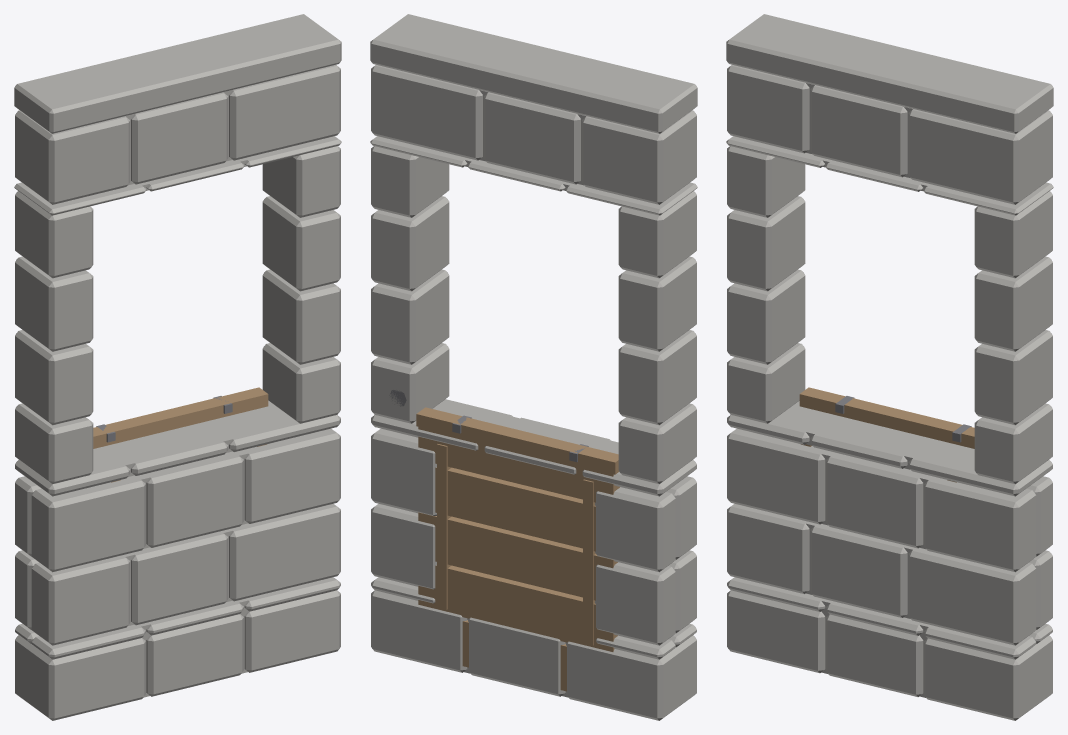
File: wall-stable-stall.fbx
3 views of the same model, side by side, from view 1: azimuth 30°, elevation 25°; view 2: azimuth 150°, elevation 25°; view 3: azimuth 330°, elevation 25° (orthographic).
Visible parts, largest first — view 1: wall-stable-stall; view 2: wall-stable-stall; view 3: wall-stable-stall.
Boxes of the visible parts, box(x1,y1,x2,y2) form: wall-stable-stall: box(14, 14, 341, 720); wall-stable-stall: box(370, 14, 697, 720); wall-stable-stall: box(726, 14, 1053, 720).
Bounding box in the file's own units: 1.5 × 3 × 0.34.
